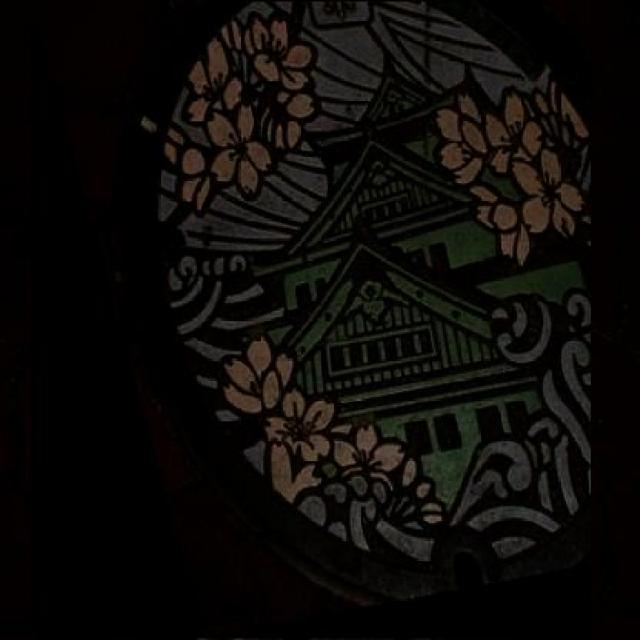Manhole: (32, 1, 590, 638)
